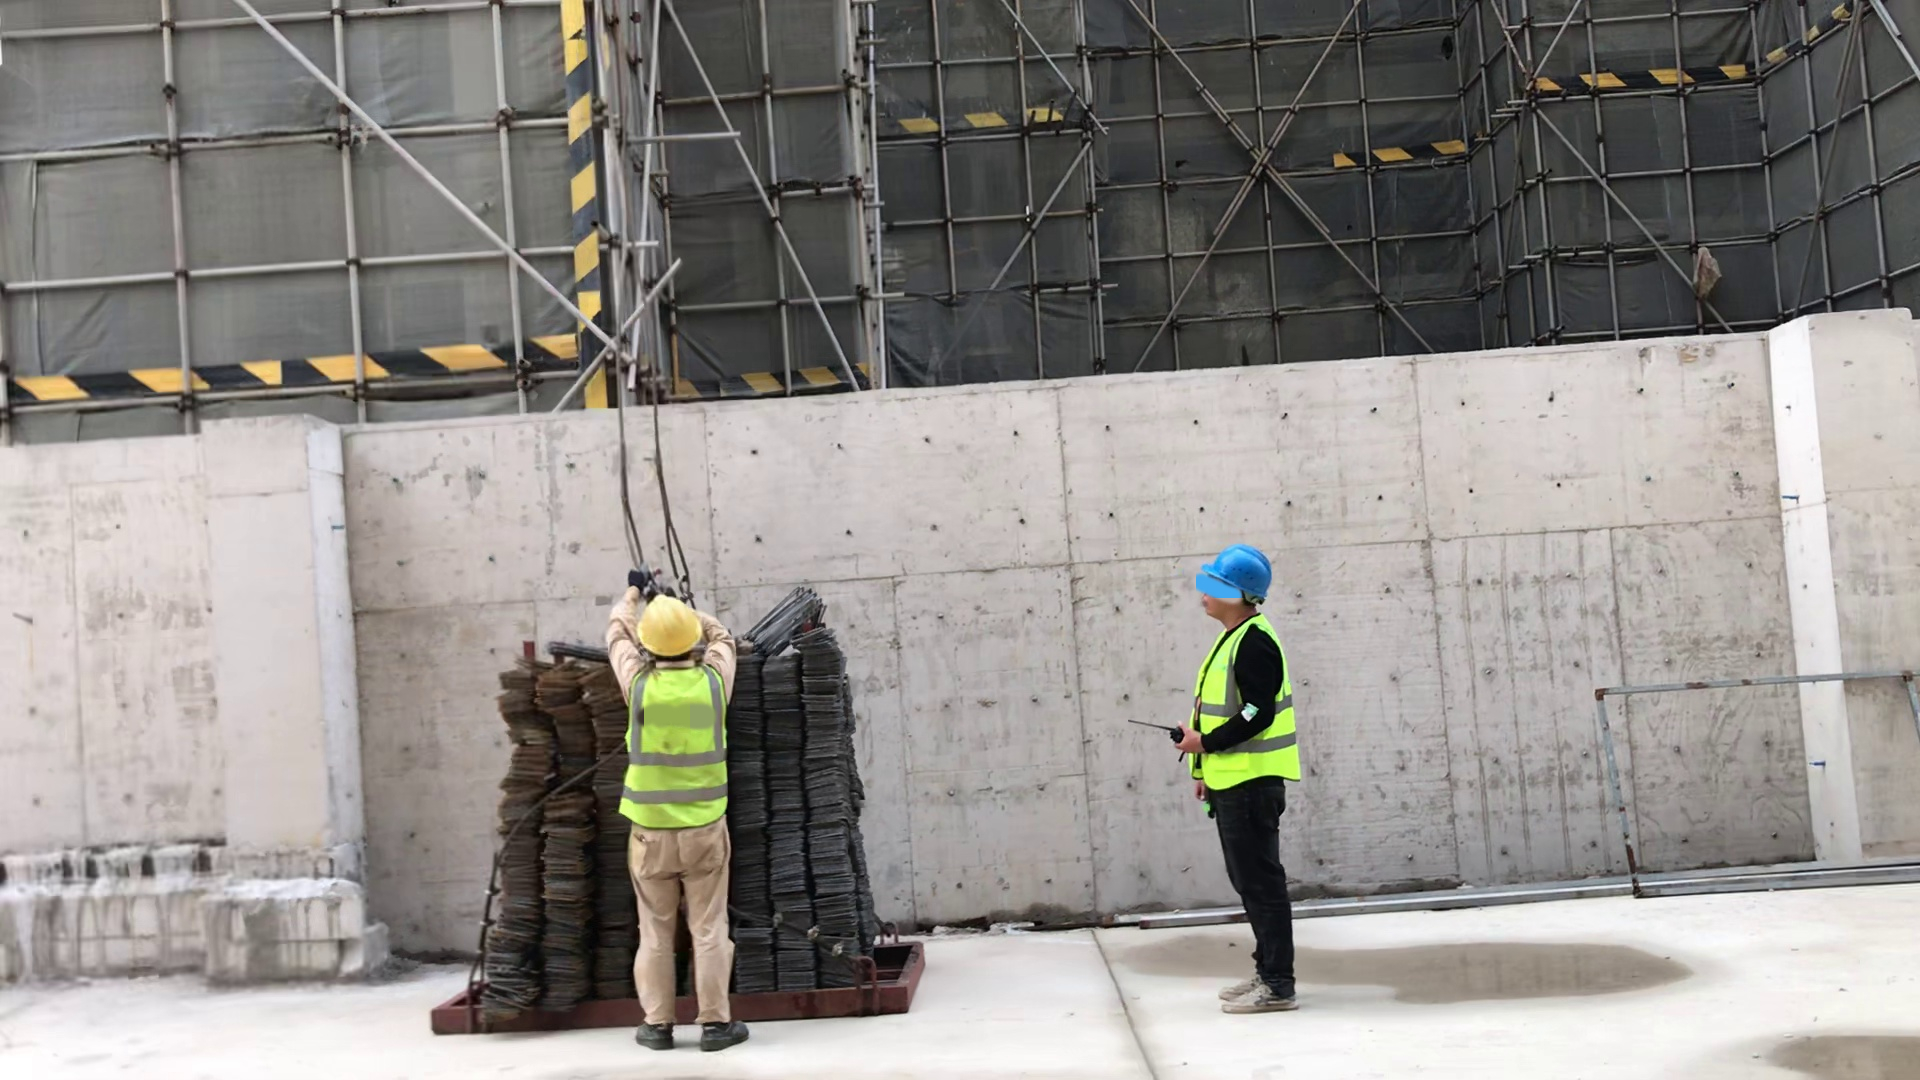helmet: (1194, 531, 1282, 609), (627, 600, 707, 661)
person: (1169, 533, 1332, 1029), (592, 570, 755, 1064)
vest: (622, 668, 750, 822), (1177, 624, 1300, 778)
